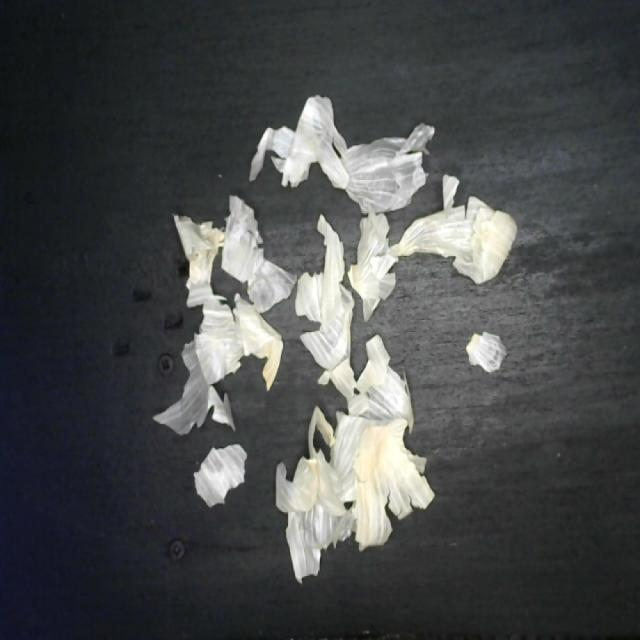biodegradable: (143, 87, 516, 590)
